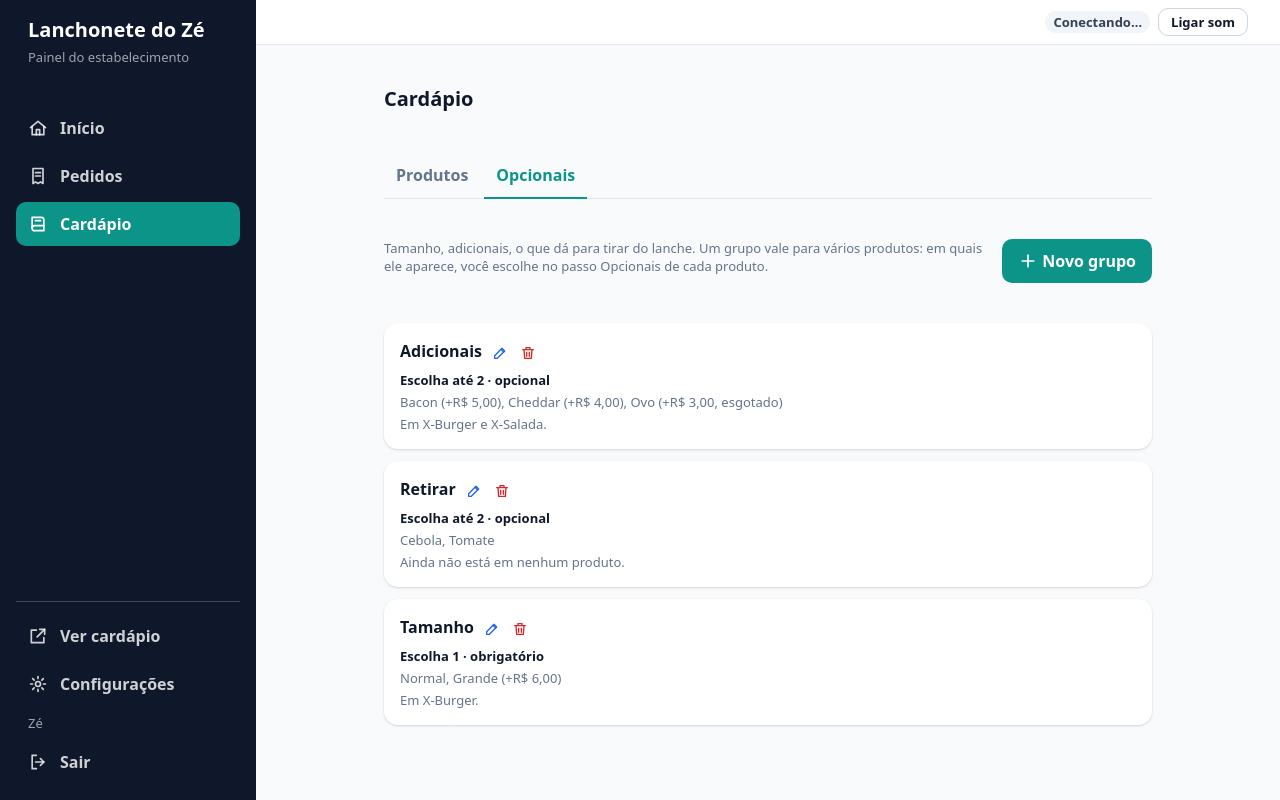
Test: a lista dos grupos › a lixeira de um grupo em uso diz onde ele está, sem excluir
Expected: the heading "Adicionais" is shown, [400,339,482,363]
Click the button named "Excluir o grupo Adicionais": coordinates (528, 353) [514,339,542,367]
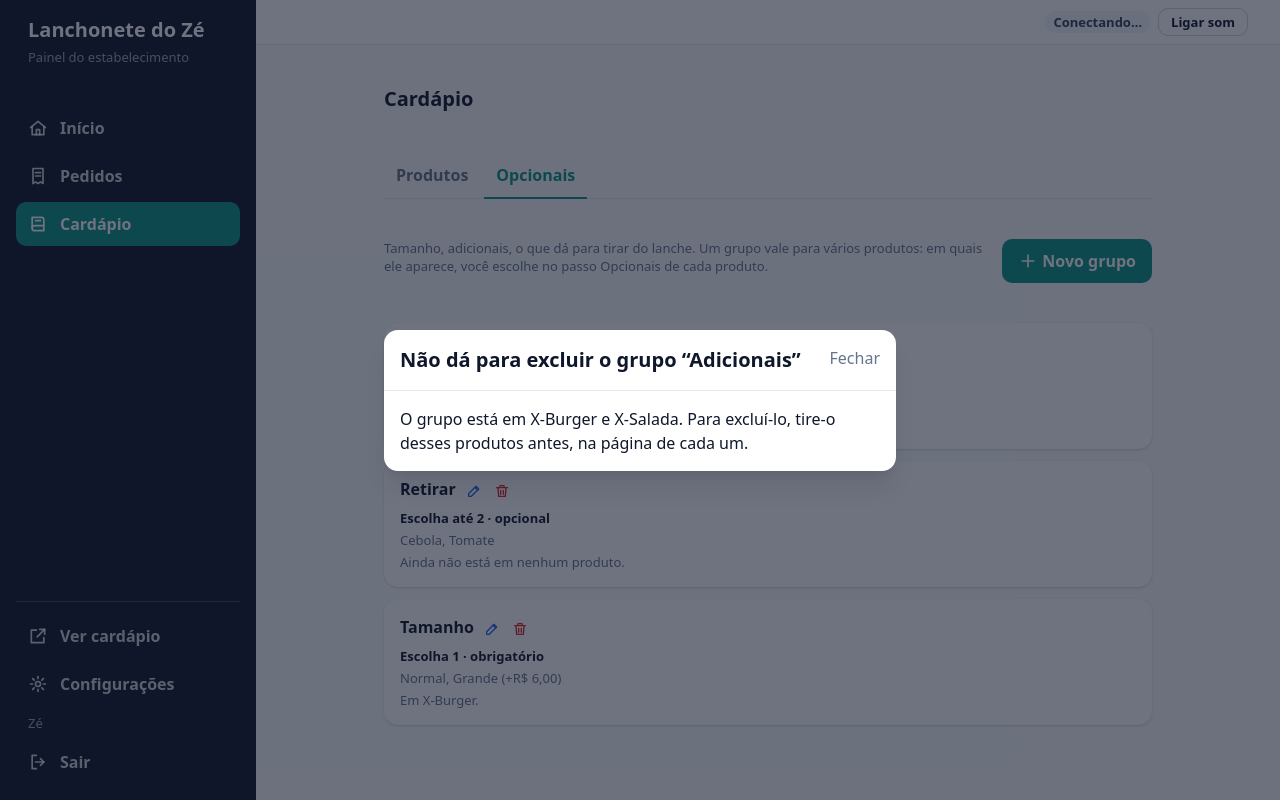
Expected: the text "O grupo está em X-Burger e X-Salada" is shown, [400,408,835,454]
